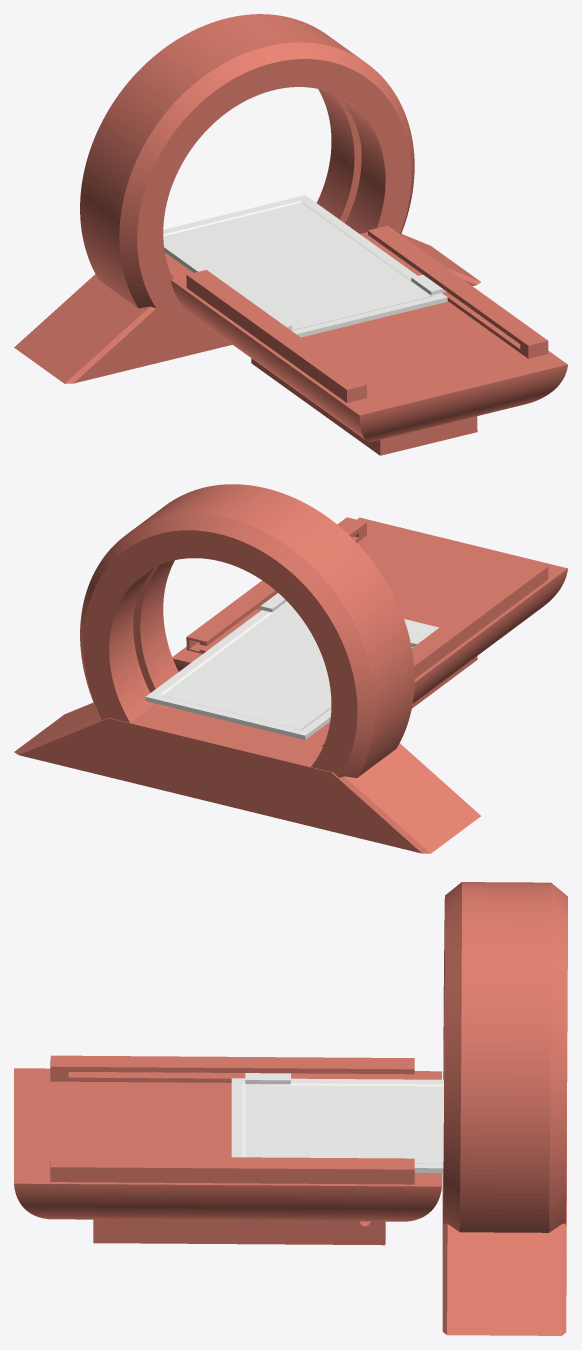
The model's file is Resonador.glb.
3 views of the same model, one above another, from view 1: azimuth 30°, elevation 25°; view 2: azimuth 150°, elevation 25°; view 3: azimuth 270°, elevation 25° (orthographic). The views are drawn at different scales.
Parts seen in each view (by area): view 1: Sin título; view 2: Sin título; view 3: Sin título.
Part boxes in pixels (x1=…): Sin título: x1=14, y1=14, x2=567, y2=455; Sin título: x1=14, y1=484, x2=567, y2=853; Sin título: x1=14, y1=882, x2=567, y2=1335.
Size of the model in its own units: 60 by 38.84 by 60.85.
